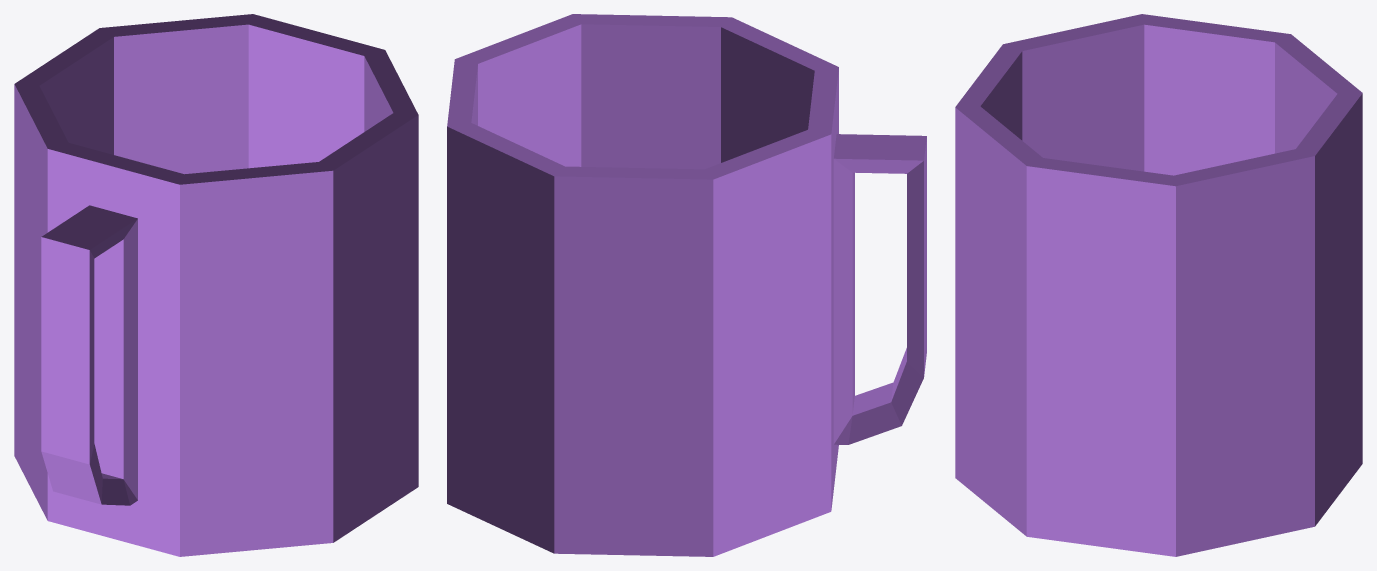
File: Cup 10.fbx
3 renders of one model, left to right at view 1: azimuth 30°, elevation 25°; view 2: azimuth 150°, elevation 25°; view 3: azimuth 270°, elevation 25°, orthographic.
Parts seen in each view (by area): view 1: Cup; view 2: Cup; view 3: Cup.
Boxes of the visible parts, box(x1,y1,x2,y2) form: Cup: box(14, 14, 418, 556); Cup: box(447, 14, 926, 556); Cup: box(955, 14, 1362, 556).
Size of the model in its own units: 0.1242 by 0.1247 by 0.1414.
